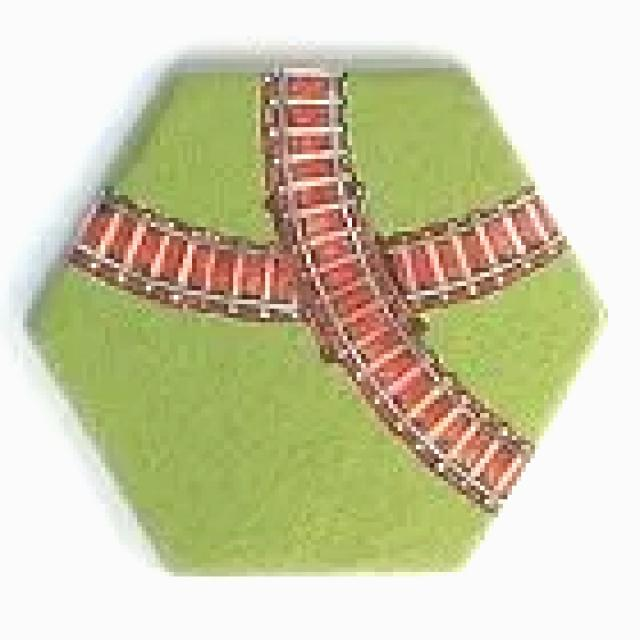7_3: (23, 57, 614, 579)
